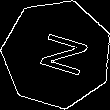N_W: (27, 28, 87, 81)
